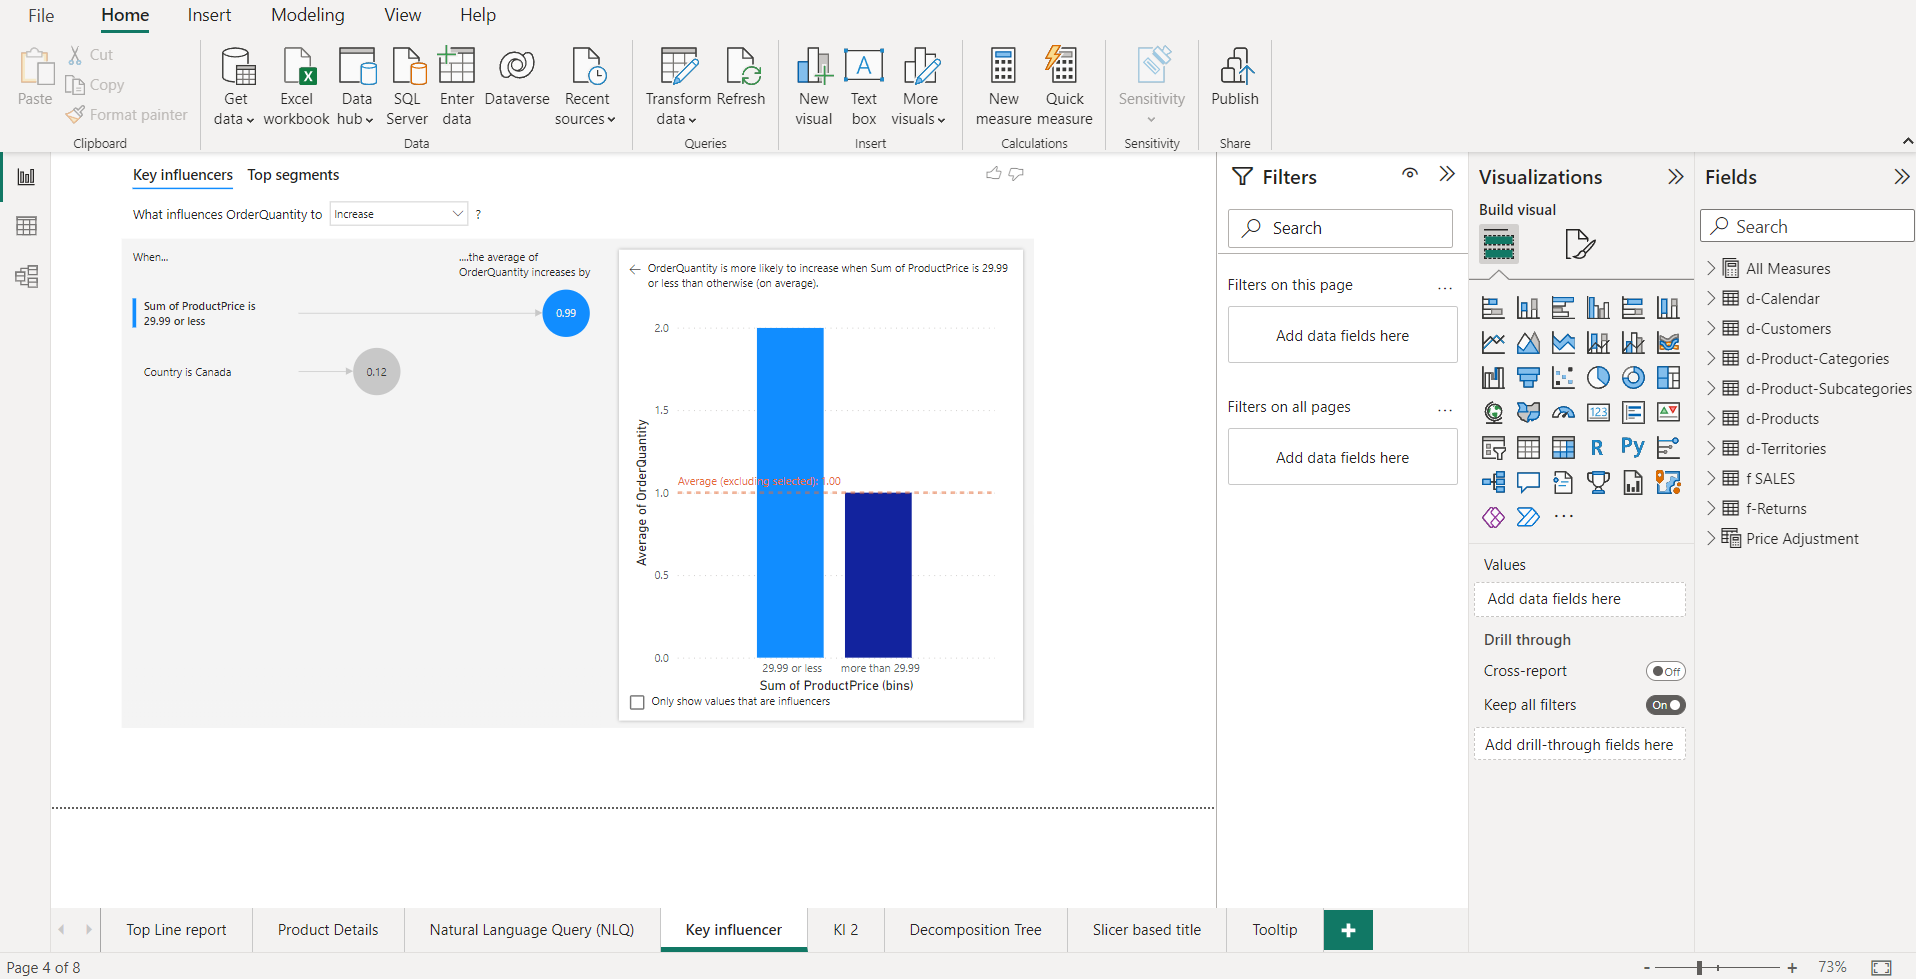

This screenshot's page, from the dashboard's own definition file:
{"tool":"powerbi","page":{"name":"Key influencer","canvas":[1280,720],"ordinal":3},"visuals":[{"type":"keyDriversVisual","fields":{"Target":["f SALES.OrderQuantity"],"ExplainBy":["Sum(d-Products.ProductPrice)","d-Territories.Country"]},"box":[72.5,0,1012.1,638.1],"z":0}]}

Visuals, with their boxes on the page's 1280x720 design canvas (x1, y1, x2, y2). These are canvas units, not pixel positions in the 1916x979 screenshot, which may show the page scaled, cropped or inside an application window:
keyDriversVisual - f SALES.OrderQuantity x Sum(d-Products.ProductPrice): 72,0,1085,638
